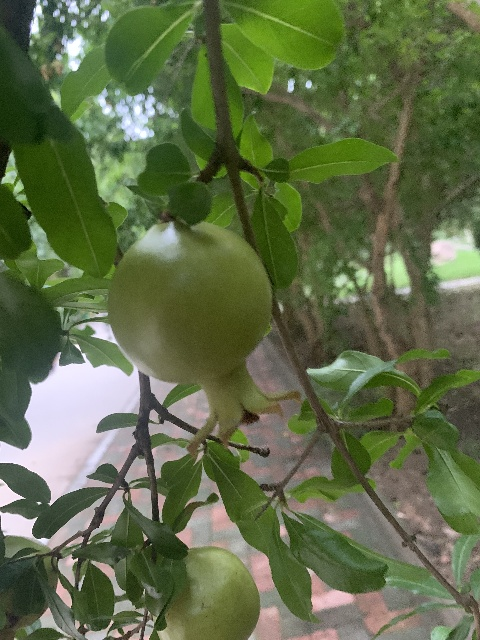mid-growth: (106, 218, 298, 460), (159, 546, 260, 640)
